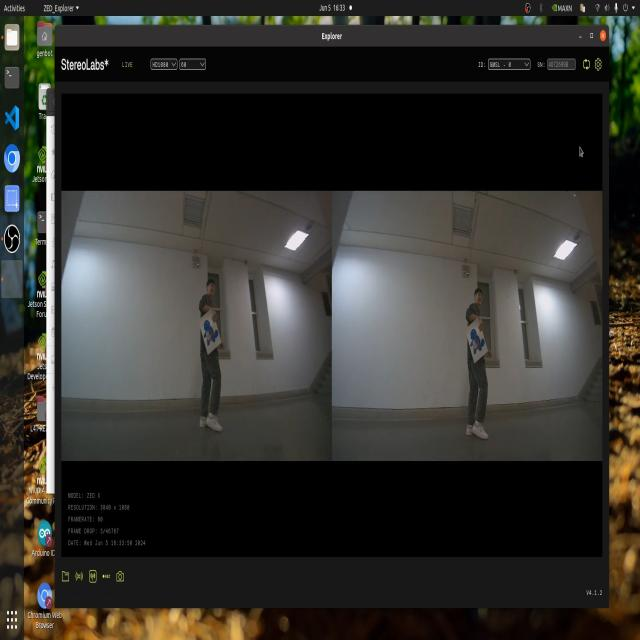blue: (462, 321, 486, 357), (198, 313, 220, 352)
